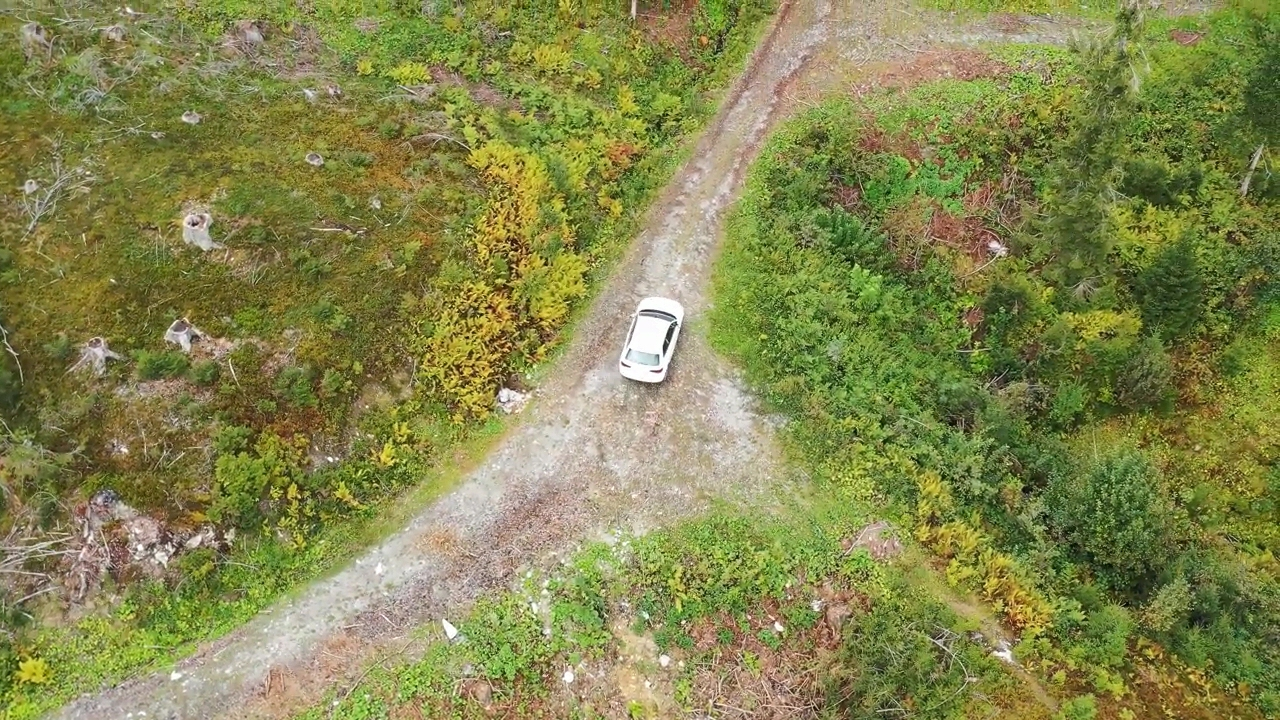araba: (617, 296, 687, 385)
